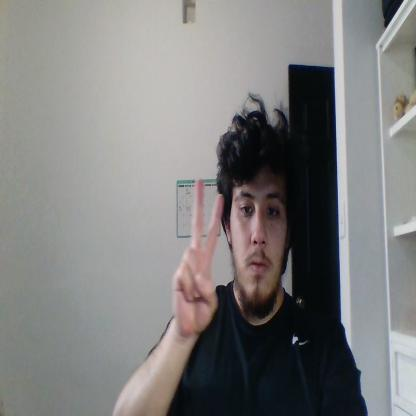V: (172, 178, 224, 335)
